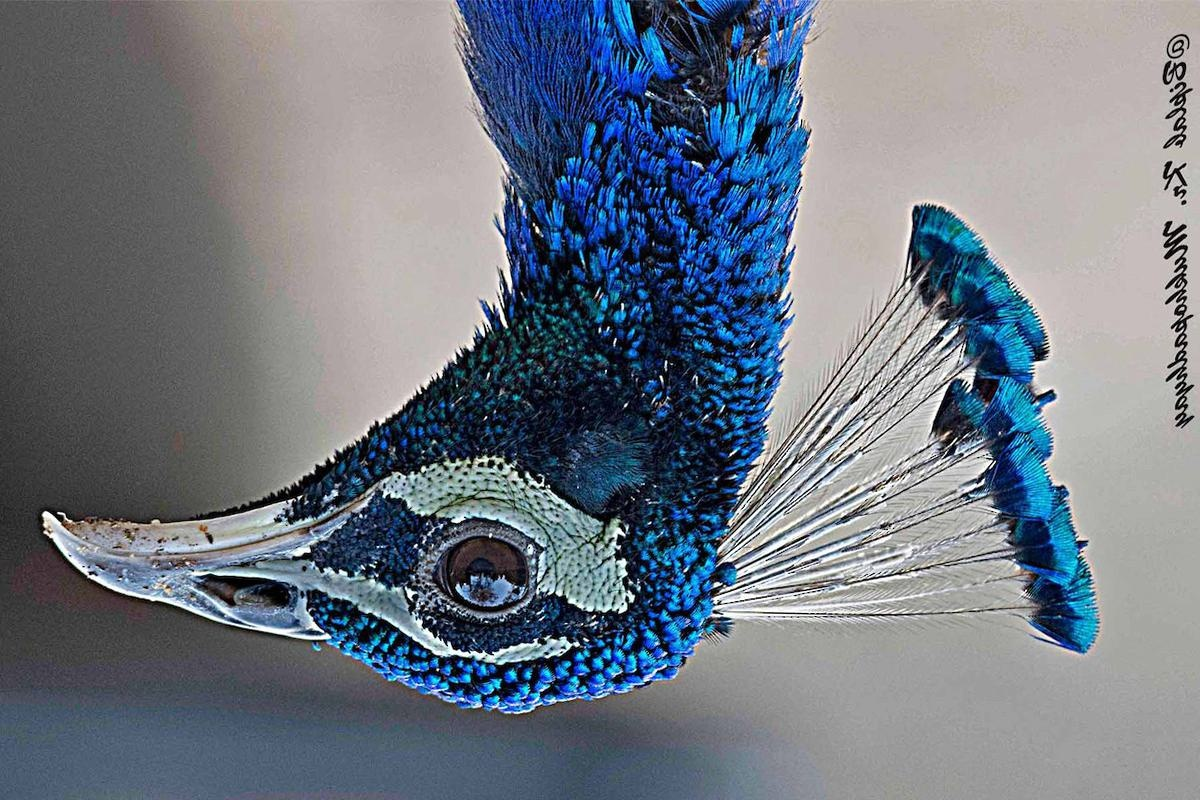peacock: (115, 1, 1095, 677)
